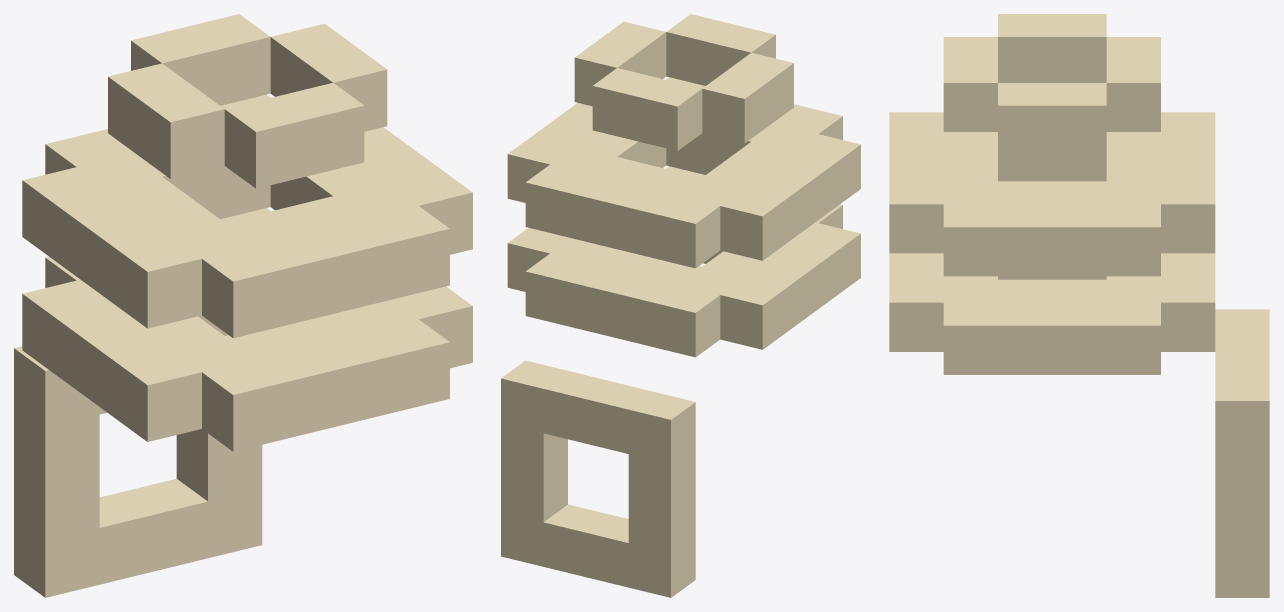
File: GGJ tesla torch flame.obj
The picture shows the model from 3 angles, left to right: view 1: azimuth 30°, elevation 25°; view 2: azimuth 150°, elevation 25°; view 3: azimuth 270°, elevation 25°; orthographic projection. The views are drawn at different scales.
Size of the model in its own units: 0.6 by 1 by 0.7.
Materials: 1 (1 with a texture image).
